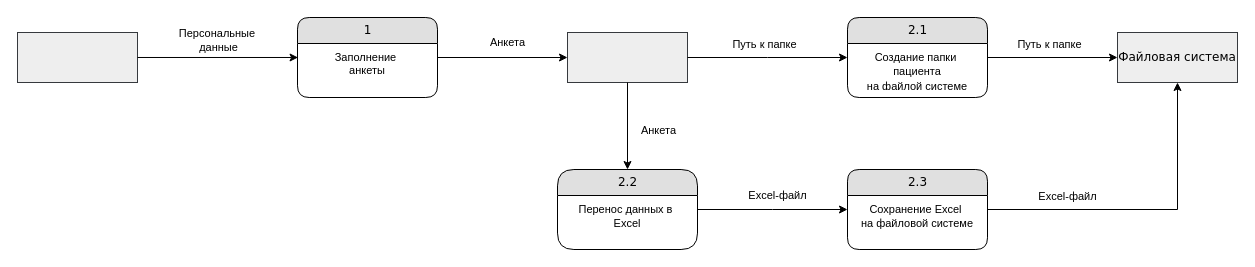
Some shapes in this 1255 by 267 pixel diagram are drawn without their labels. Here are the shapes that lost their labels. From the top down, the centre of each, then its label:
the point at 77,57: Пациент
the point at 627,57: Сотрудник ресепшена
